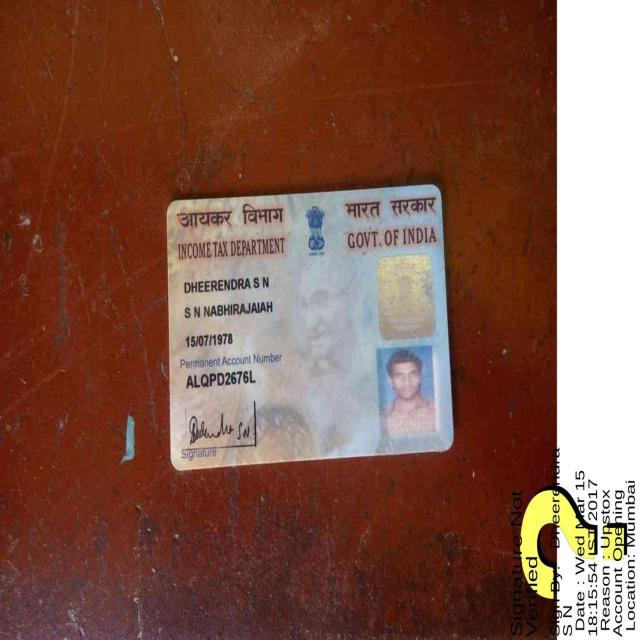pan_card: (169, 186, 452, 469)
